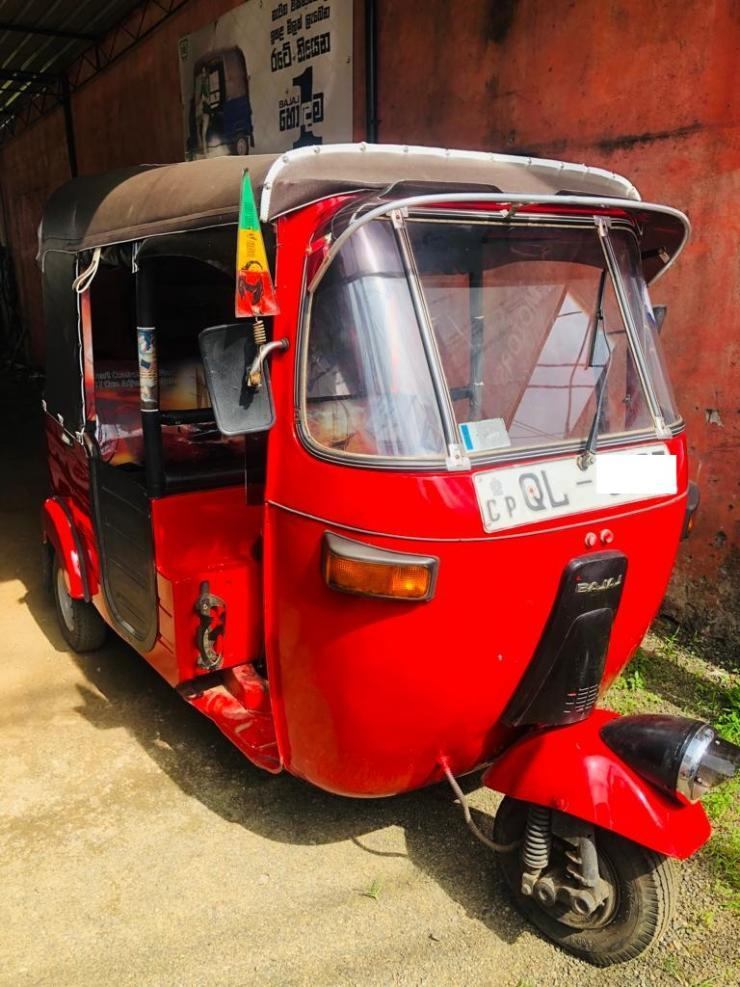threewheel: (39, 142, 740, 969)
